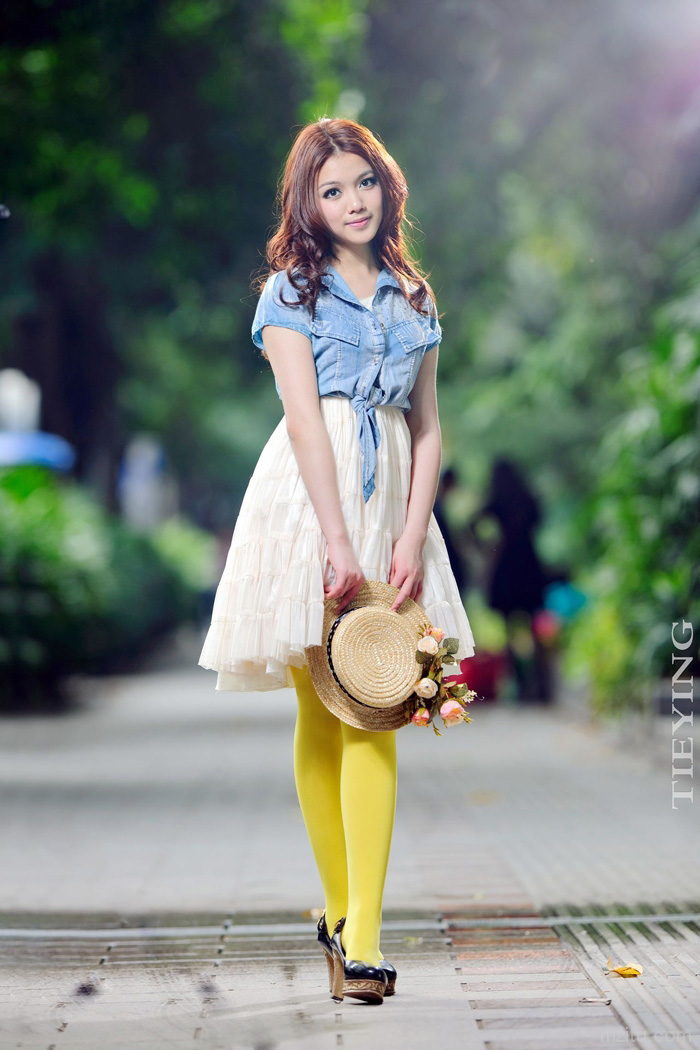women: (195, 112, 480, 1012)
